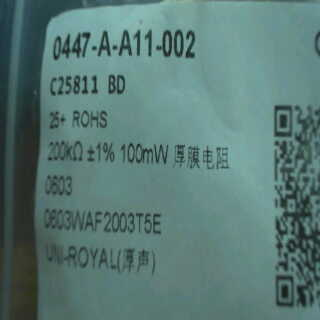200kR: (45, 139, 86, 164)
